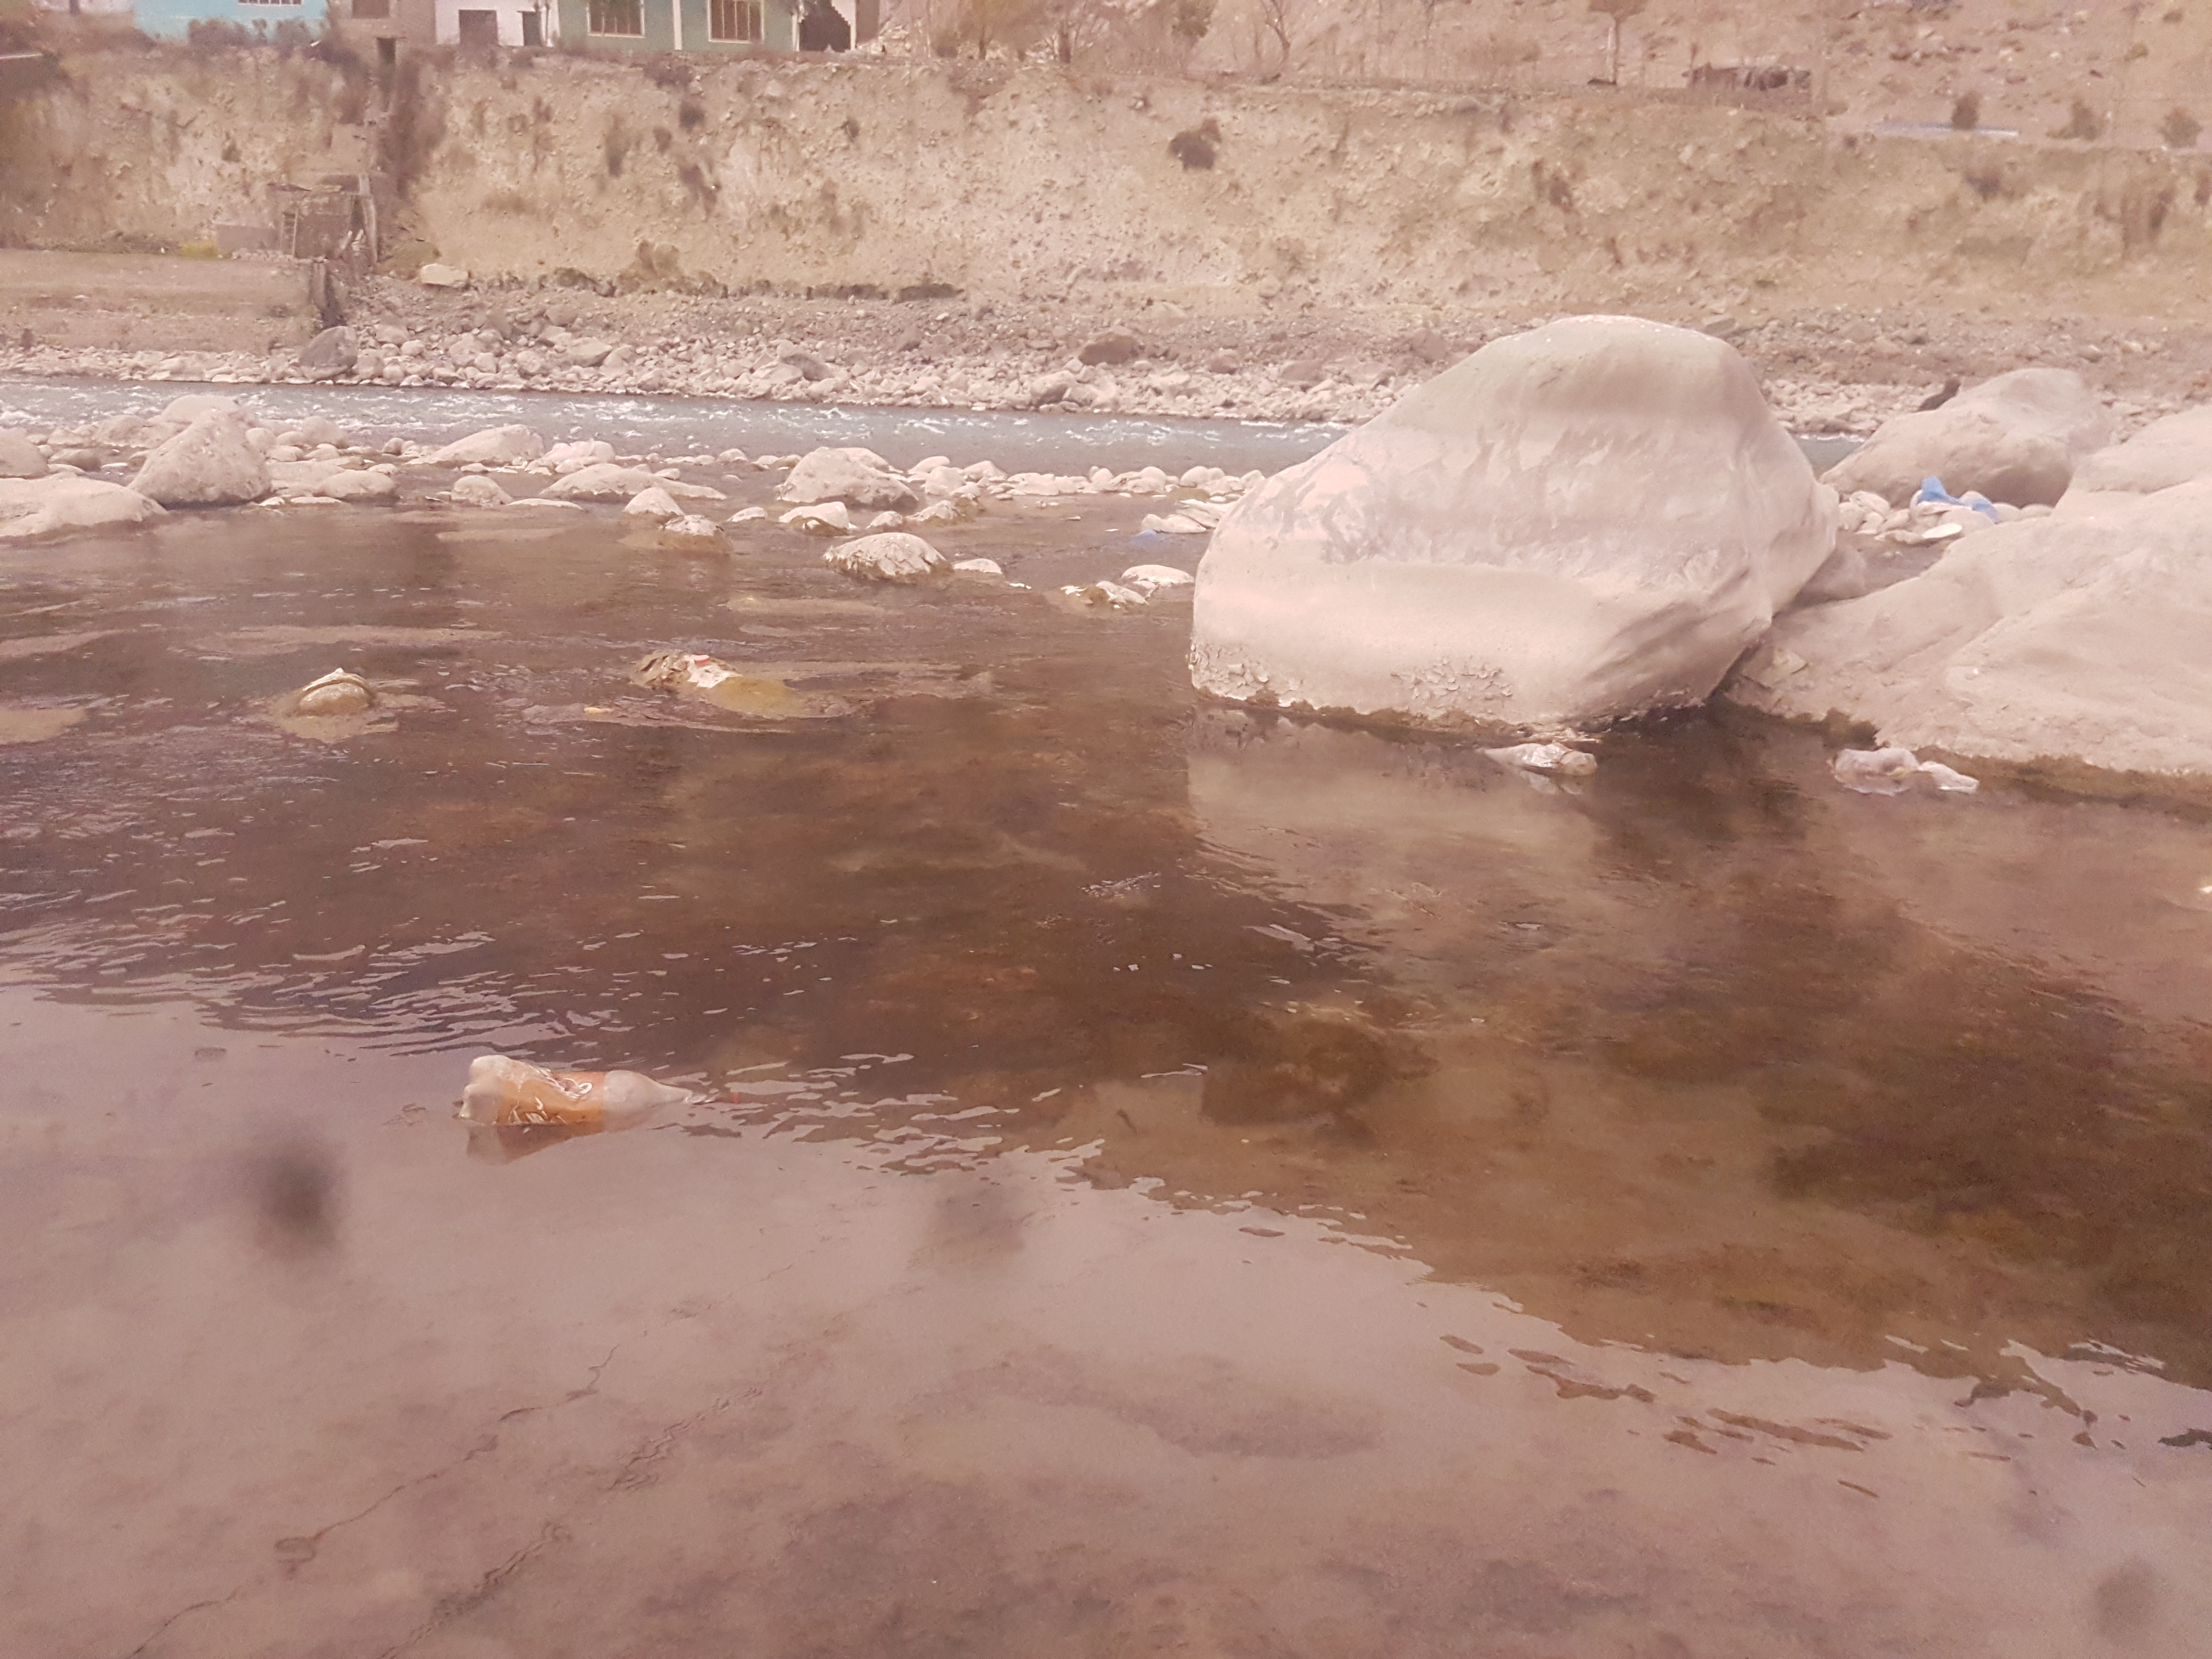Plastic Bottle: (460, 1054, 693, 1126), (1475, 742, 1597, 774), (1137, 528, 1157, 537)
